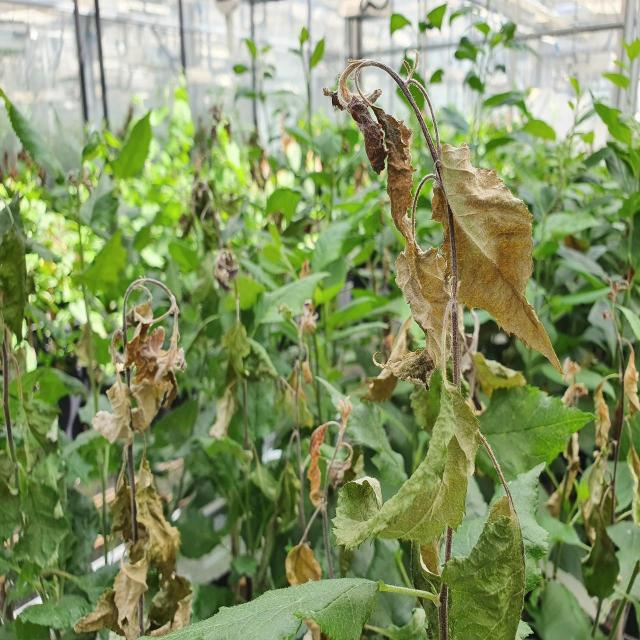-FireBlight-: (332, 53, 565, 389), (110, 283, 190, 636)
